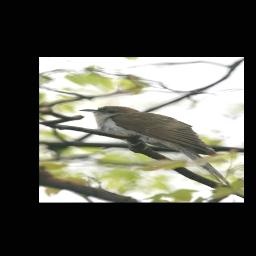Cuckoo: (79, 105, 232, 187)
